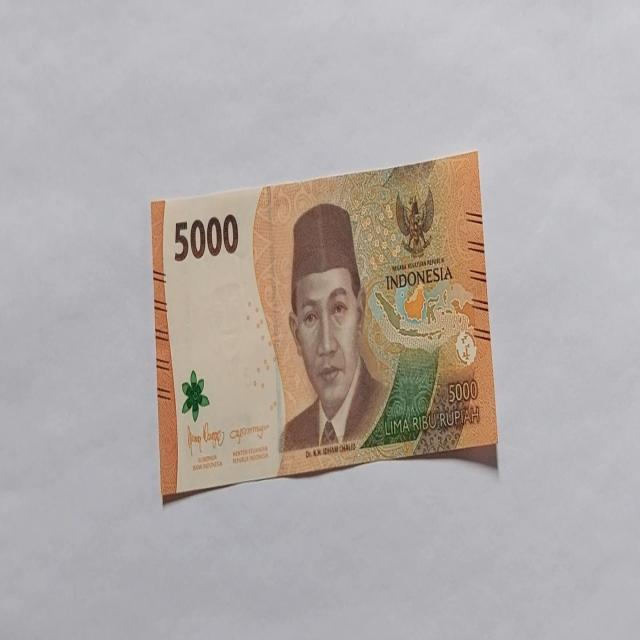lima ribu rupiah: (150, 150, 498, 503), (278, 201, 390, 456)
